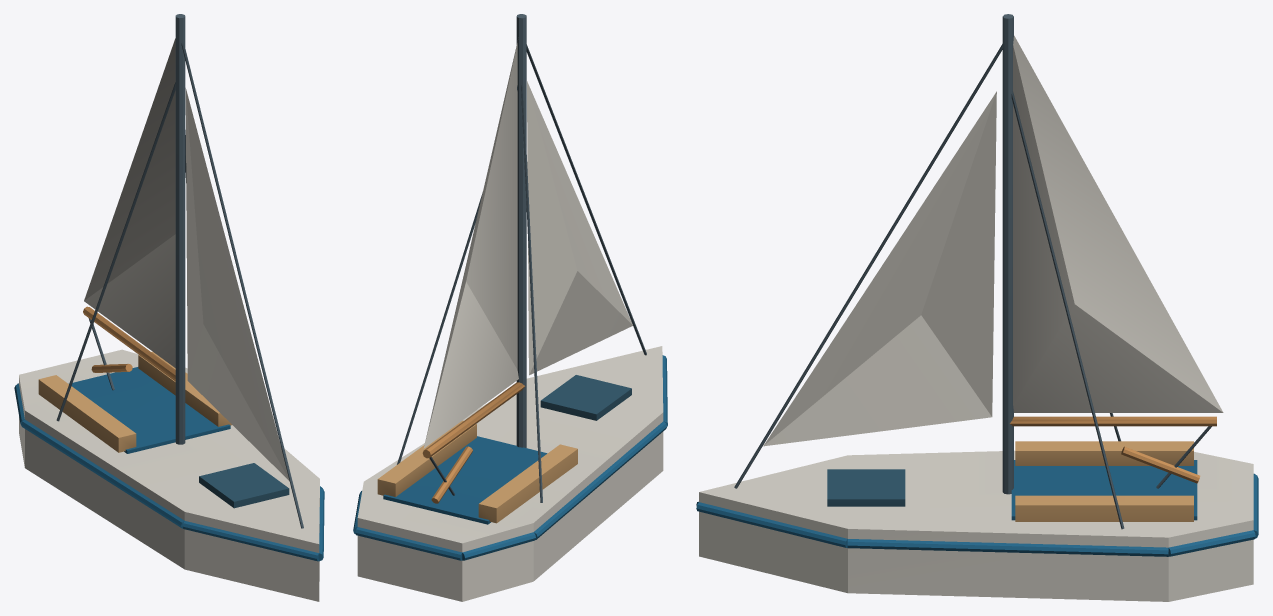
File: sailboat.glb
The picture shows the model from 3 angles, left to right: view 1: azimuth 30°, elevation 25°; view 2: azimuth 150°, elevation 25°; view 3: azimuth 270°, elevation 25°; orthographic projection. The views are drawn at different scales.
Visible parts, largest first — view 1: rounded sailing hull, blue sheer stripe, mast, cockpit bench, foredeck hatch, boom; view 2: rounded sailing hull, blue sheer stripe, mast, cockpit bench, foredeck hatch, boom; view 3: rounded sailing hull, blue sheer stripe, mast, cockpit bench, foredeck hatch, boom.
Boxes of the visible parts, x1=… form: rounded sailing hull: x1=19, y1=38, x2=319, y2=601; blue sheer stripe: x1=14, y1=367, x2=324, y2=561; mast: x1=56, y1=14, x2=303, y2=528; cockpit bench: x1=38, y1=351, x2=231, y2=452; foredeck hatch: x1=199, y1=463, x2=289, y2=508; boom: x1=83, y1=306, x2=175, y2=381; rounded sailing hull: x1=357, y1=37, x2=663, y2=601; blue sheer stripe: x1=353, y1=355, x2=667, y2=560; mast: x1=397, y1=14, x2=646, y2=502; cockpit bench: x1=377, y1=420, x2=577, y2=523; foredeck hatch: x1=540, y1=375, x2=631, y2=420; boom: x1=422, y1=382, x2=524, y2=503; rounded sailing hull: x1=699, y1=35, x2=1253, y2=601; blue sheer stripe: x1=696, y1=460, x2=1258, y2=556; mast: x1=734, y1=14, x2=1211, y2=529; cockpit bench: x1=1015, y1=441, x2=1193, y2=521; foredeck hatch: x1=827, y1=469, x2=905, y2=506; boom: x1=1009, y1=416, x2=1216, y2=483.
Size of the model in its own units: 0.9839 by 2.6 by 2.45.
